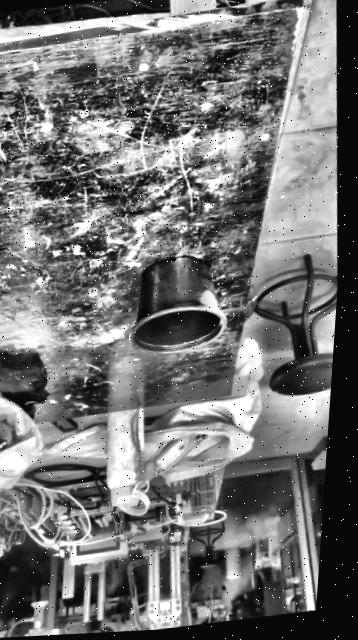pot: (122, 250, 227, 356)
